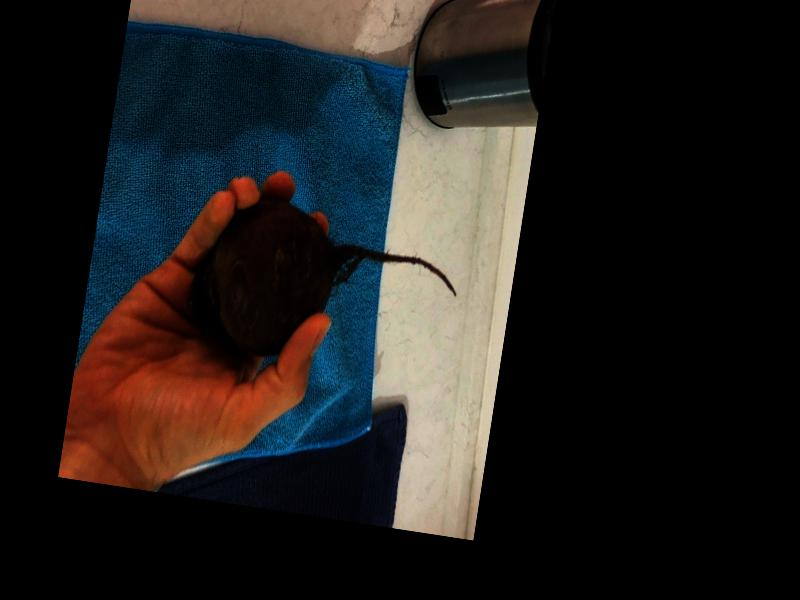Beet: (182, 187, 465, 383)
